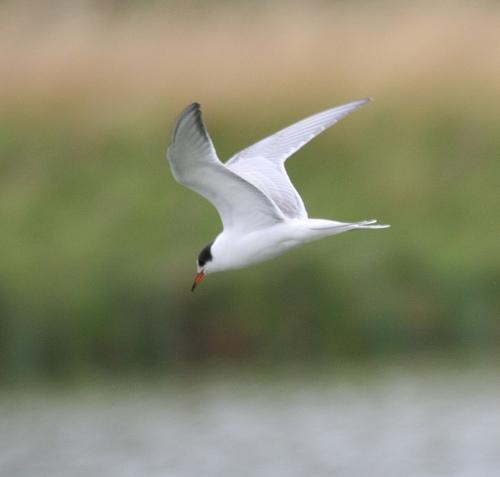bird: (169, 92, 392, 297)
